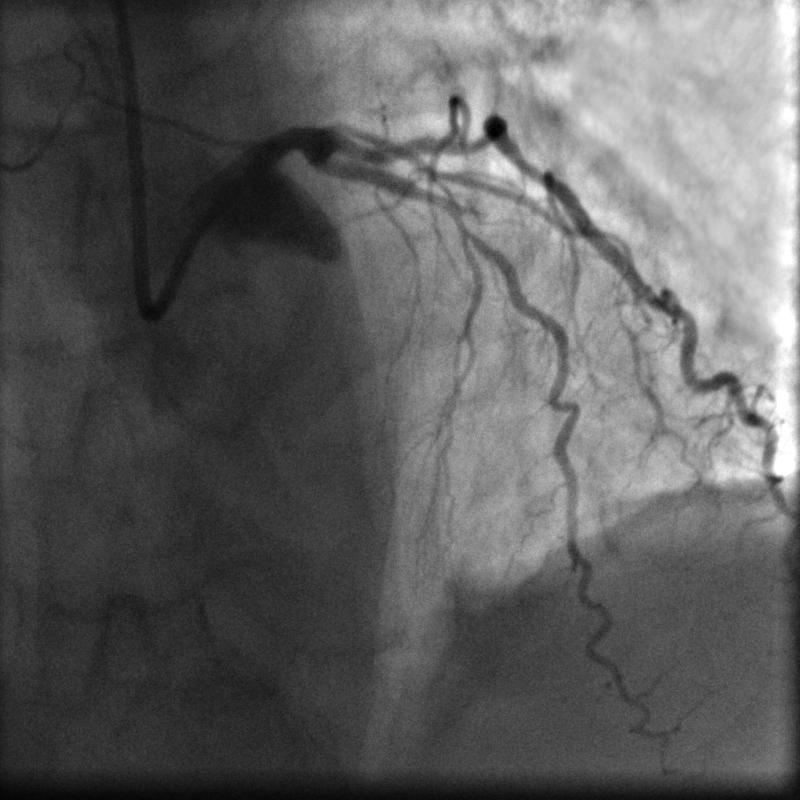Stenosis: (417, 180, 468, 231)
